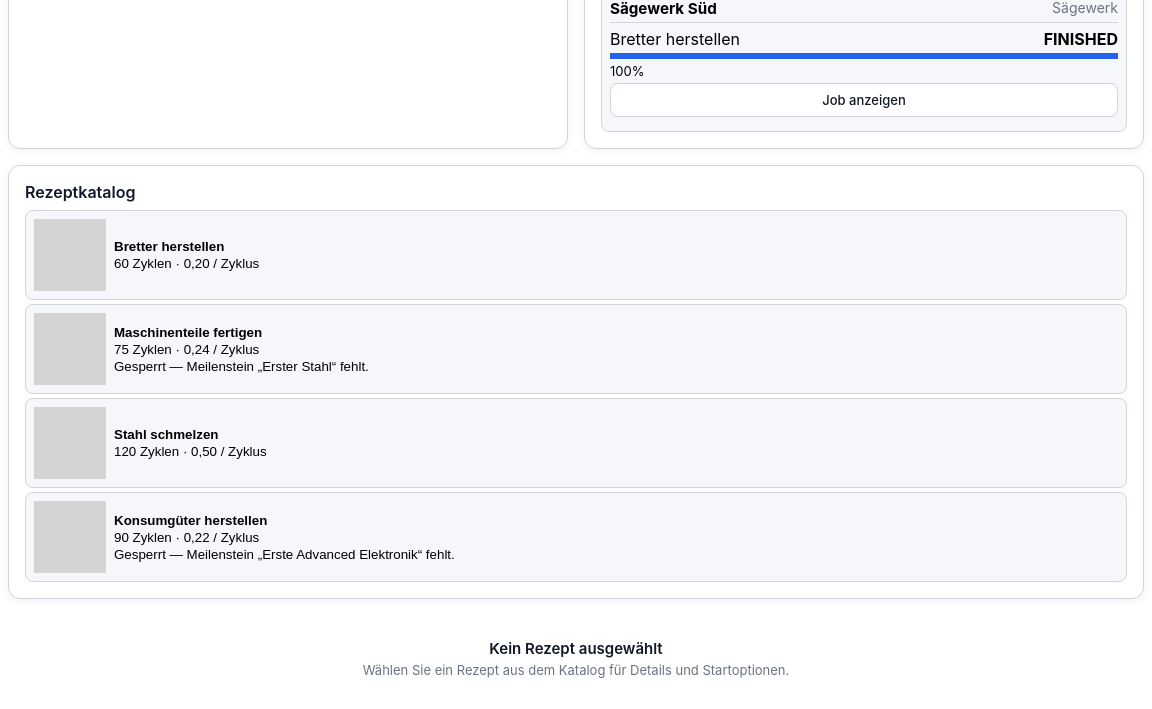
Scenario: ProductionScreen › keeps a locked recipe selectable and shows prerequisite near empty start options
(page scrolled)
Step 1. Click the button "Maschinenteile fertigen" → (70, 349), box [25, 304, 1127, 394]
(page scrolled)
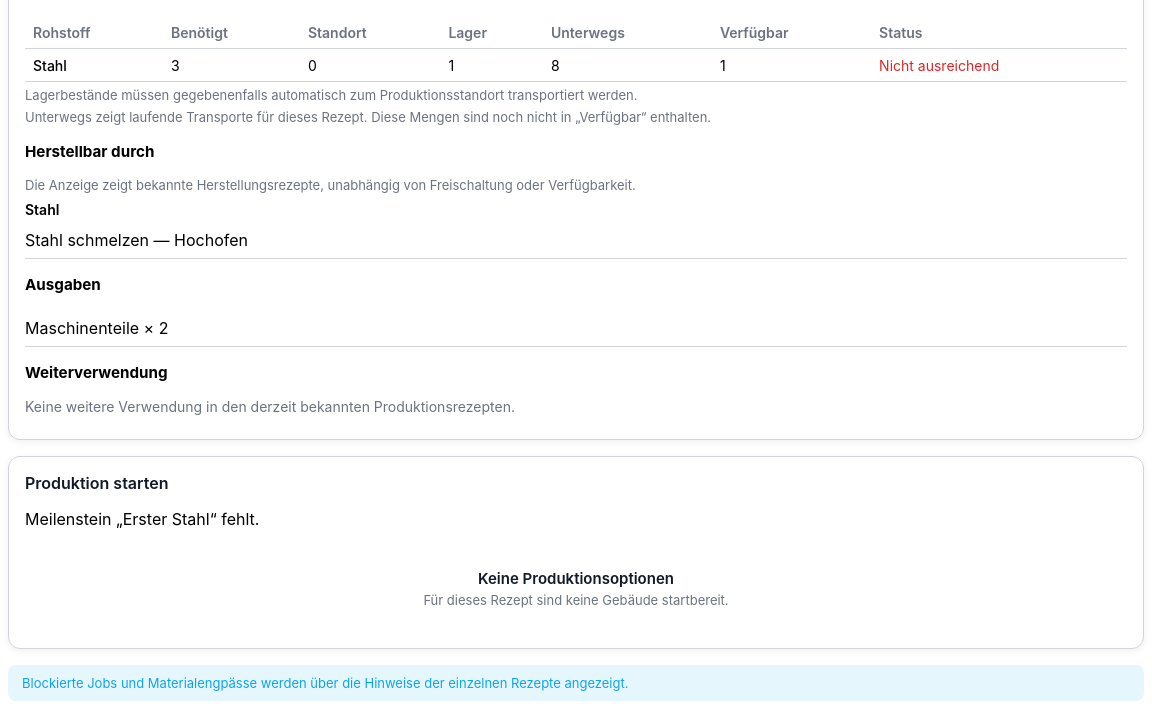
Expected: the text "Meilenstein „Erster Stahl“ fehlt." is shown, [25, 509, 259, 529]
